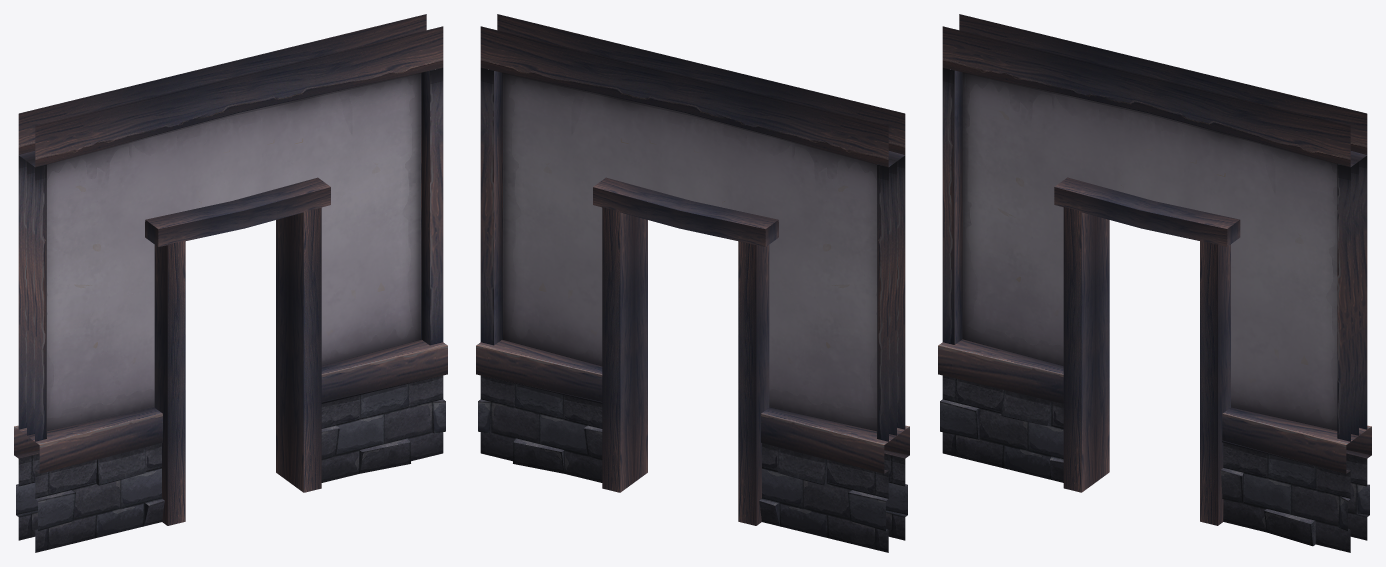
File: WallDoor_2sided_detailed.fbx
3 views of the same model, side by side, from view 1: azimuth 30°, elevation 25°; view 2: azimuth 150°, elevation 25°; view 3: azimuth 330°, elevation 25° (orthographic).
Parts seen in each view (by area): view 1: WallDoor_2sided_detailed; view 2: WallDoor_2sided_detailed; view 3: WallDoor_2sided_detailed.
Boxes of the visible parts, x1,y1,x2,y2 form: WallDoor_2sided_detailed: (14, 14, 447, 552); WallDoor_2sided_detailed: (476, 14, 909, 552); WallDoor_2sided_detailed: (938, 14, 1371, 552).
Bounding box in the file's own units: 0.6266 × 0.6266 × 0.0741.
